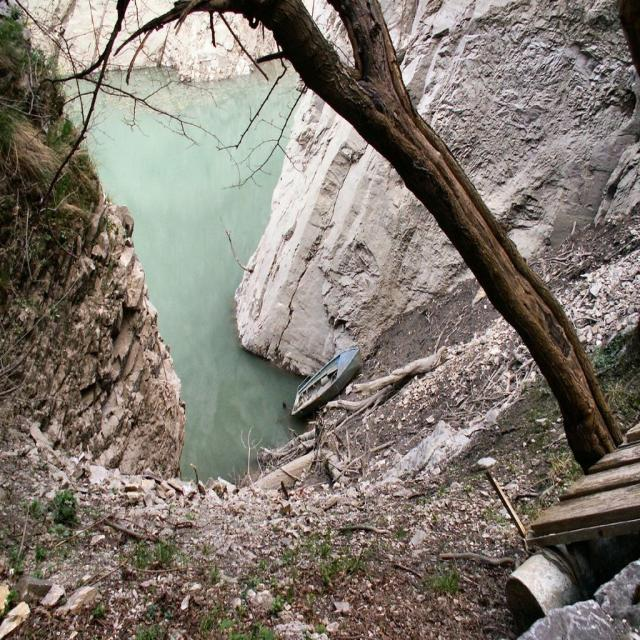Boat: (286, 344, 361, 423)
